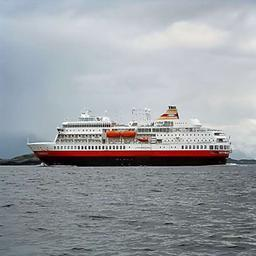Ship: (26, 110, 236, 168)
